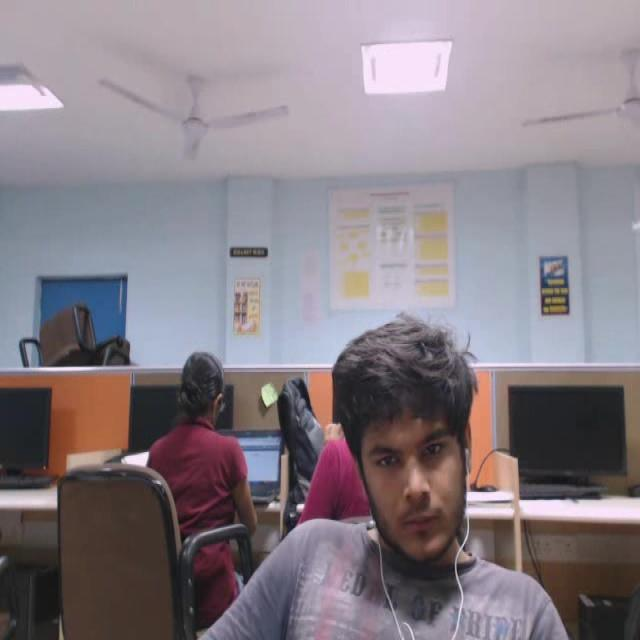Bored: (302, 309, 520, 576)
